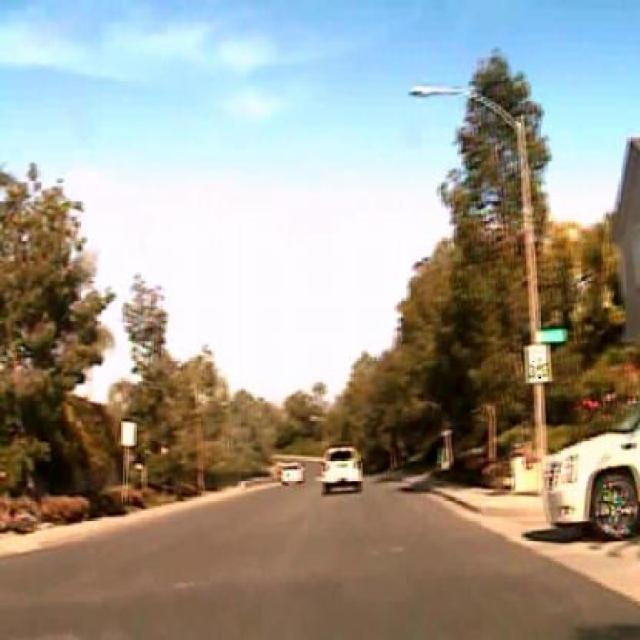speedLimit25: (526, 341, 551, 384)
